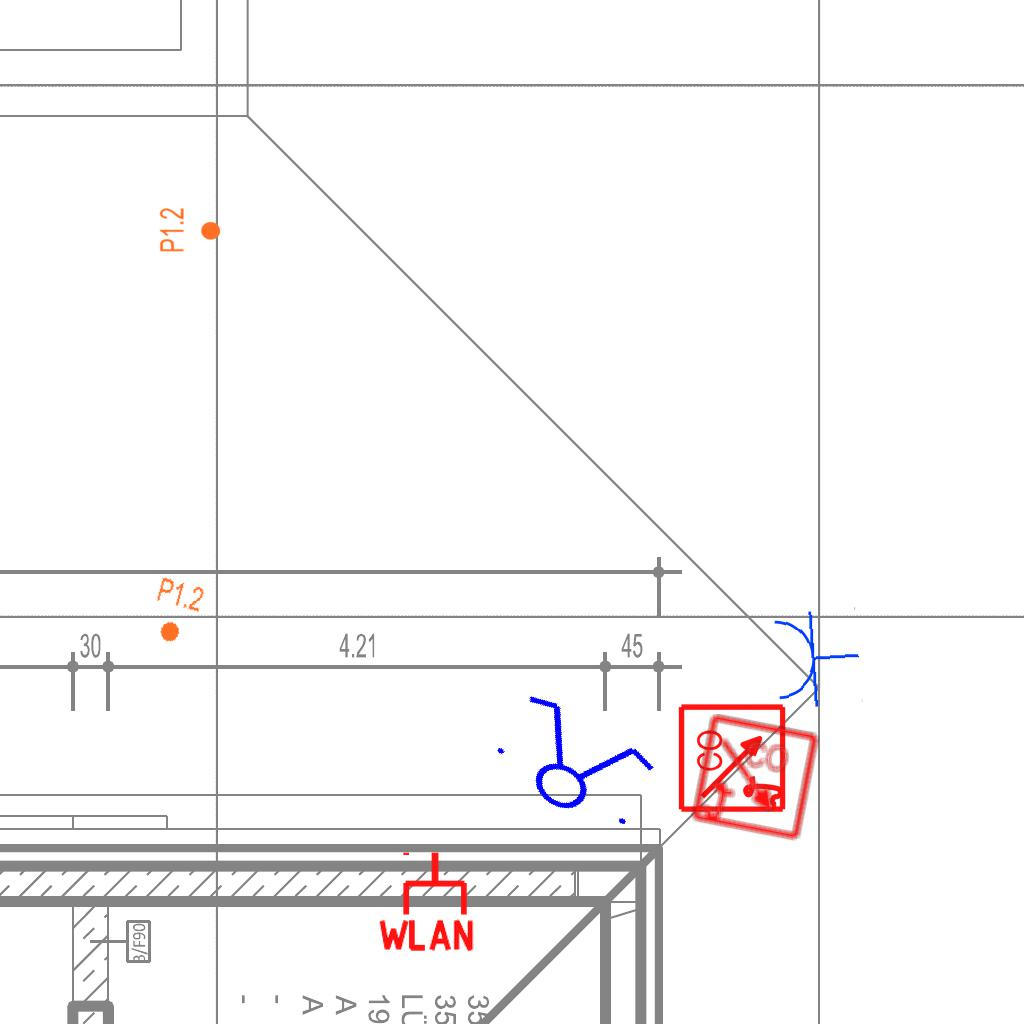Downlight_LED_Einbauleuchten_Flur: (145, 575, 207, 649), (158, 207, 222, 253)
ROA_Rauchmelder_optisch_mit_Signalgeber_(Sockelsirene): (689, 712, 822, 845), (677, 701, 790, 814)
Schukosteckdose_einfach: (769, 604, 863, 711)
Serienschalter: (476, 679, 670, 847)
WLAN: (374, 848, 478, 953)
